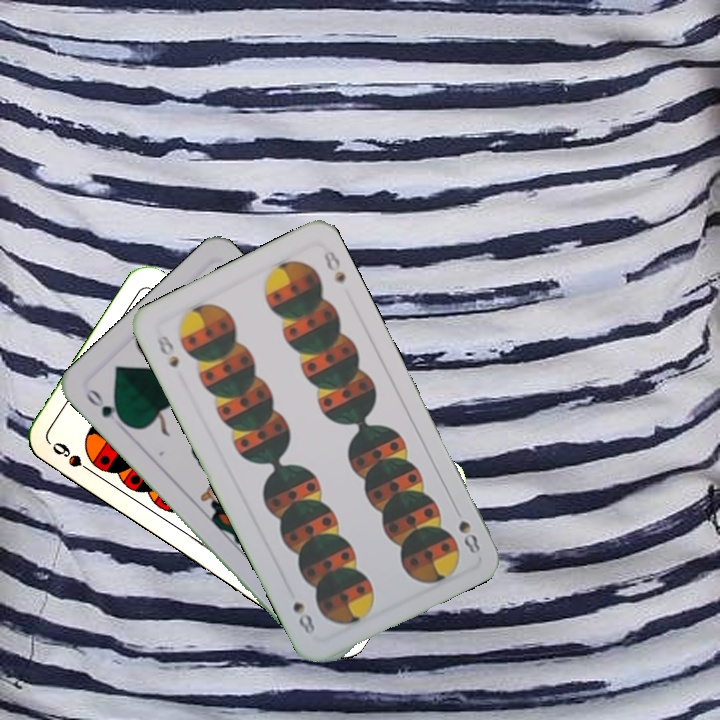GO: (81, 385, 130, 433)
S8: (454, 516, 483, 557), (153, 331, 182, 371)
S9: (48, 437, 99, 478)
